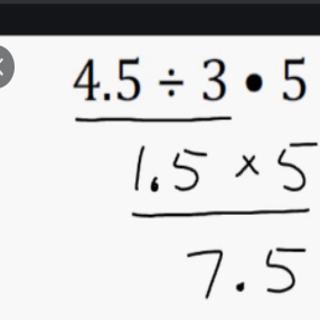.: (234, 68, 270, 103), (148, 172, 165, 198), (234, 278, 251, 301), (97, 92, 114, 106)
1: (129, 143, 147, 195)
3: (194, 50, 231, 109)
4: (69, 57, 101, 105)
5: (271, 133, 318, 196), (262, 242, 311, 297), (168, 142, 210, 199), (277, 50, 311, 103), (114, 49, 143, 102)
7: (176, 244, 228, 300)
